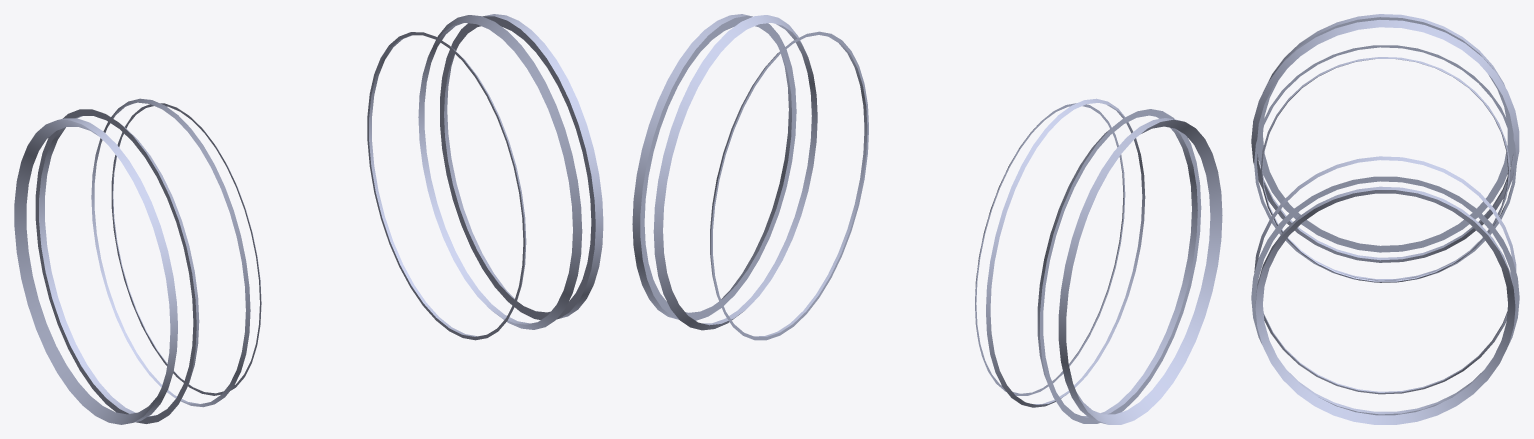
The model's file is AS.SOLDA1.fbx.
3 renders of one model, left to right at view 1: azimuth 30°, elevation 25°; view 2: azimuth 150°, elevation 25°; view 3: azimuth 270°, elevation 25°, orthographic. The views are drawn at different scales.
Size of the model in its own units: 442 by 285 by 285.
